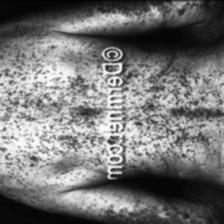Non-Cancerous Skin Condition: (3, 55, 103, 171), (124, 53, 224, 163), (96, 0, 220, 27), (114, 197, 214, 224)
